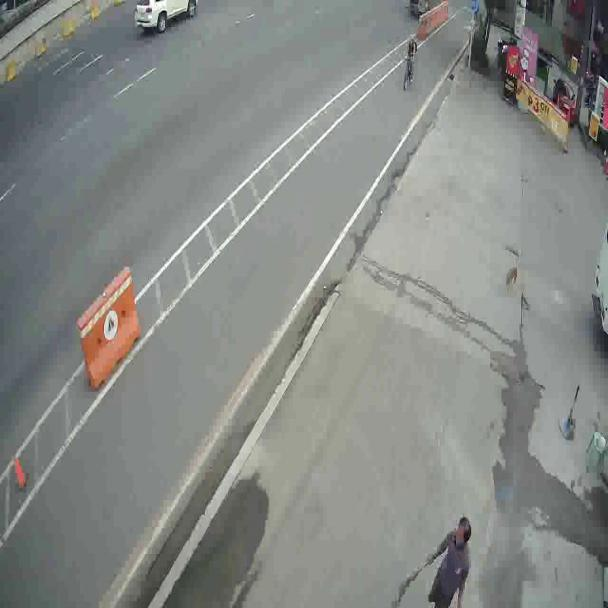vehicle: (135, 1, 194, 36)
